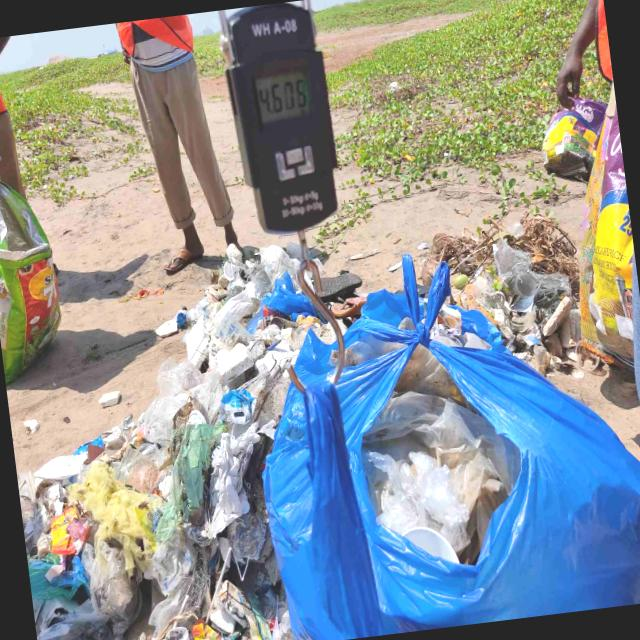dep: (318, 271, 362, 301), (331, 296, 367, 318)
nhua: (212, 244, 300, 342), (141, 357, 203, 446), (494, 238, 571, 307), (211, 271, 265, 344), (110, 442, 168, 493), (189, 369, 224, 423)
rac_huu_co: (315, 0, 586, 185), (0, 51, 148, 204), (430, 213, 580, 296), (421, 258, 439, 286)
tui_ni_long: (264, 254, 640, 640), (543, 81, 635, 367), (0, 182, 60, 383), (202, 423, 259, 539)
vai_vun: (67, 461, 161, 576)
xop: (216, 343, 254, 384), (182, 314, 208, 368), (154, 319, 177, 337), (98, 390, 121, 407)
